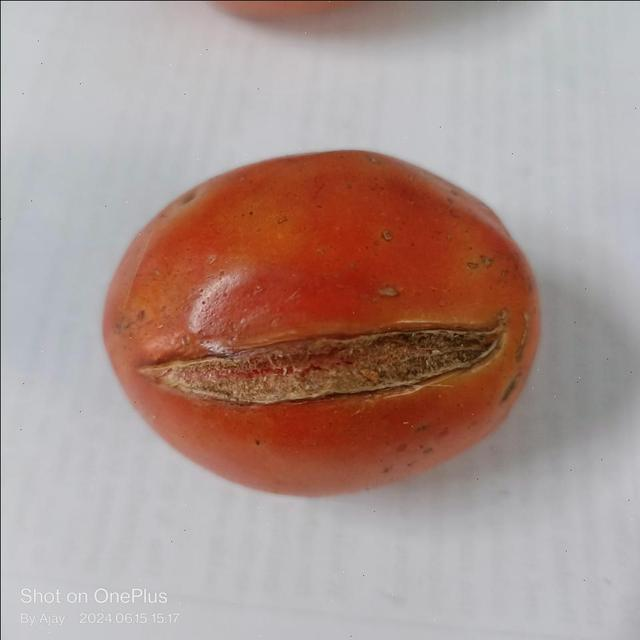Cracking Fruit: (82, 198, 341, 280)
